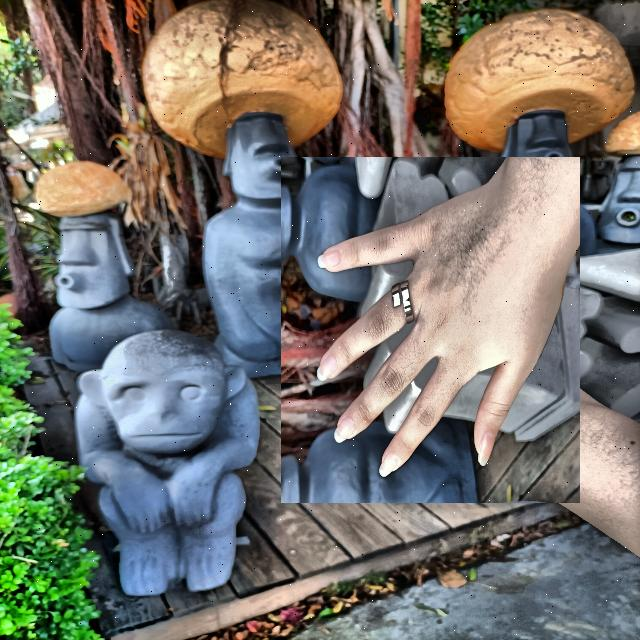not-gloved: (269, 168, 592, 491)
